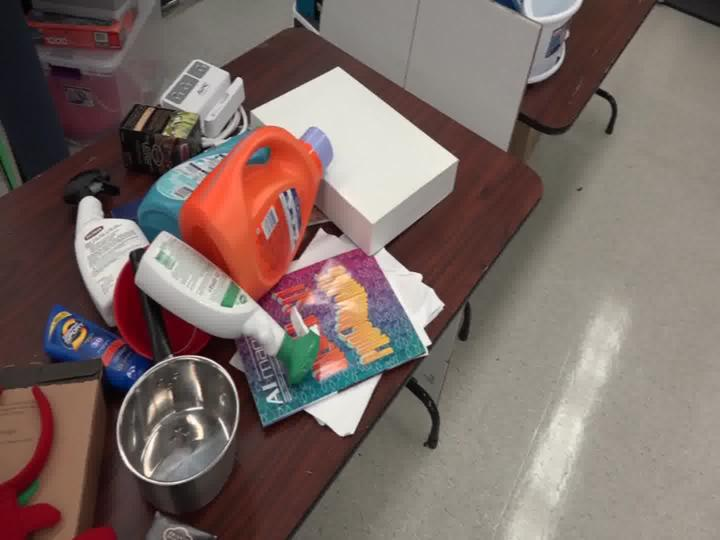downy: (115, 120, 258, 253)
